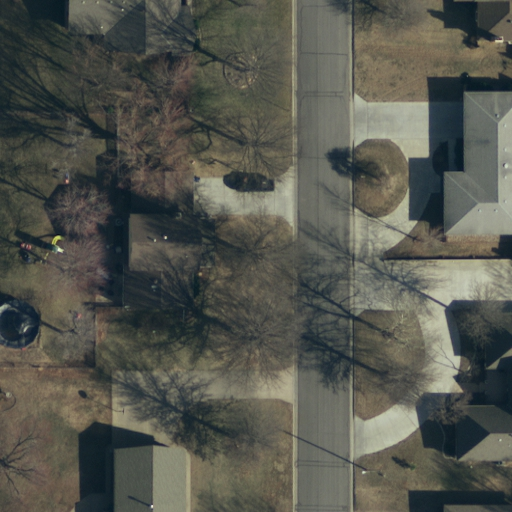DT: (355, 459, 388, 485)
